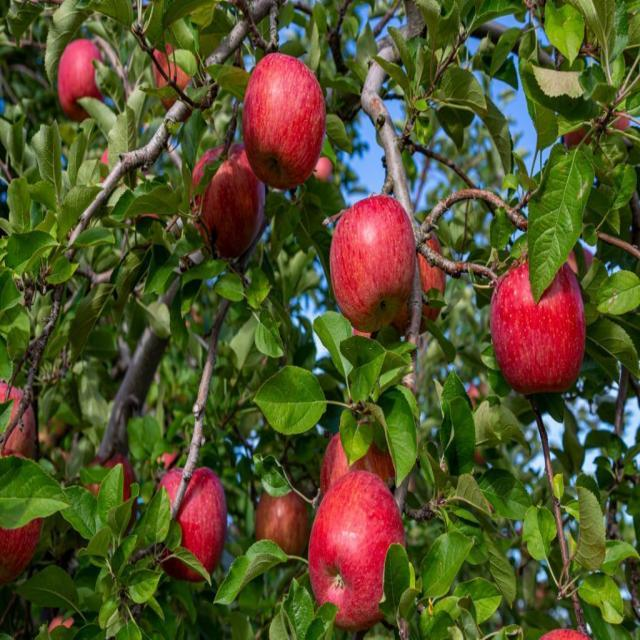Red Apple: (311, 480, 401, 622), (498, 263, 583, 387), (336, 201, 415, 329), (243, 54, 324, 176), (195, 148, 270, 249), (161, 468, 231, 568), (389, 230, 448, 329), (320, 432, 390, 515), (1, 488, 49, 586), (90, 453, 143, 528), (258, 487, 312, 556), (60, 39, 105, 121), (1, 386, 41, 471), (155, 33, 197, 106), (570, 110, 633, 147), (539, 624, 589, 640), (152, 447, 180, 474), (50, 614, 75, 640), (96, 149, 115, 182), (317, 156, 332, 177)
